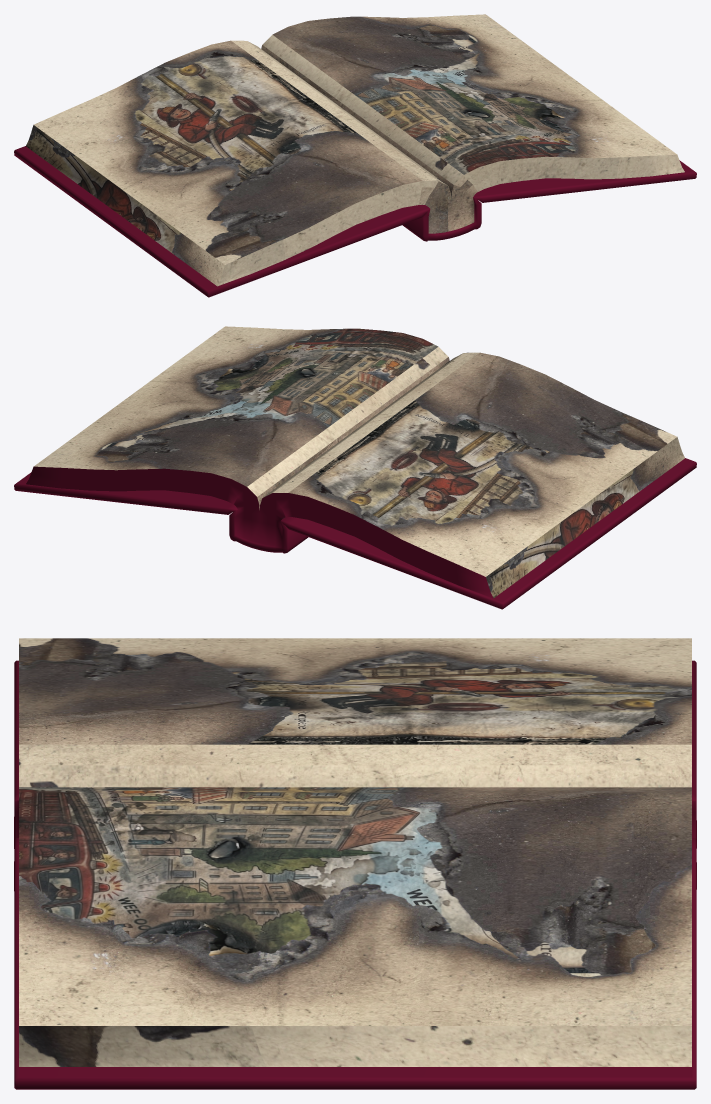
Rendered from libro-present.glb.
3 views of the same model, one above another, from view 1: azimuth 30°, elevation 25°; view 2: azimuth 150°, elevation 25°; view 3: azimuth 270°, elevation 25° (orthographic). The views are drawn at different scales.
Visible parts, largest first — view 1: libro-present; view 2: libro-present; view 3: libro-present.
Part boxes in pixels (box(x1,y1,x2,y2)): libro-present: box(14, 14, 696, 297); libro-present: box(14, 326, 696, 609); libro-present: box(14, 638, 696, 1089).
Size of the model in its own units: 1.25 by 0.1611 by 0.8617.
2 materials, 1 textured.
